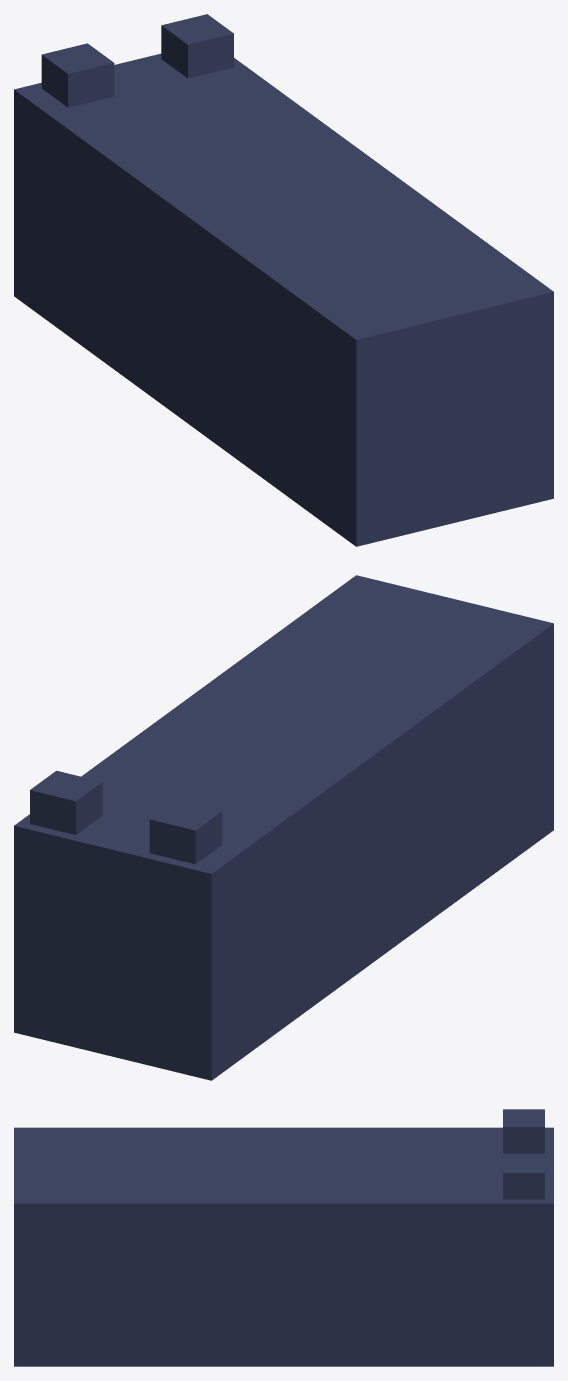
The model's file is object_butterfly.glb.
The picture shows the model from 3 angles, top to bottom: view 1: azimuth 30°, elevation 25°; view 2: azimuth 150°, elevation 25°; view 3: azimuth 270°, elevation 25°; orthographic projection. The views are drawn at different scales.
Visible parts, largest first — view 1: butterfly; view 2: butterfly; view 3: butterfly.
Part boxes in pixels (left/top/right/bottom): butterfly: left=14, top=14, right=553, bottom=546; butterfly: left=14, top=575, right=553, bottom=1080; butterfly: left=14, top=1109, right=553, bottom=1366.
Bounding box in the file's own units: 0.1 × 0.1164 × 0.3.
